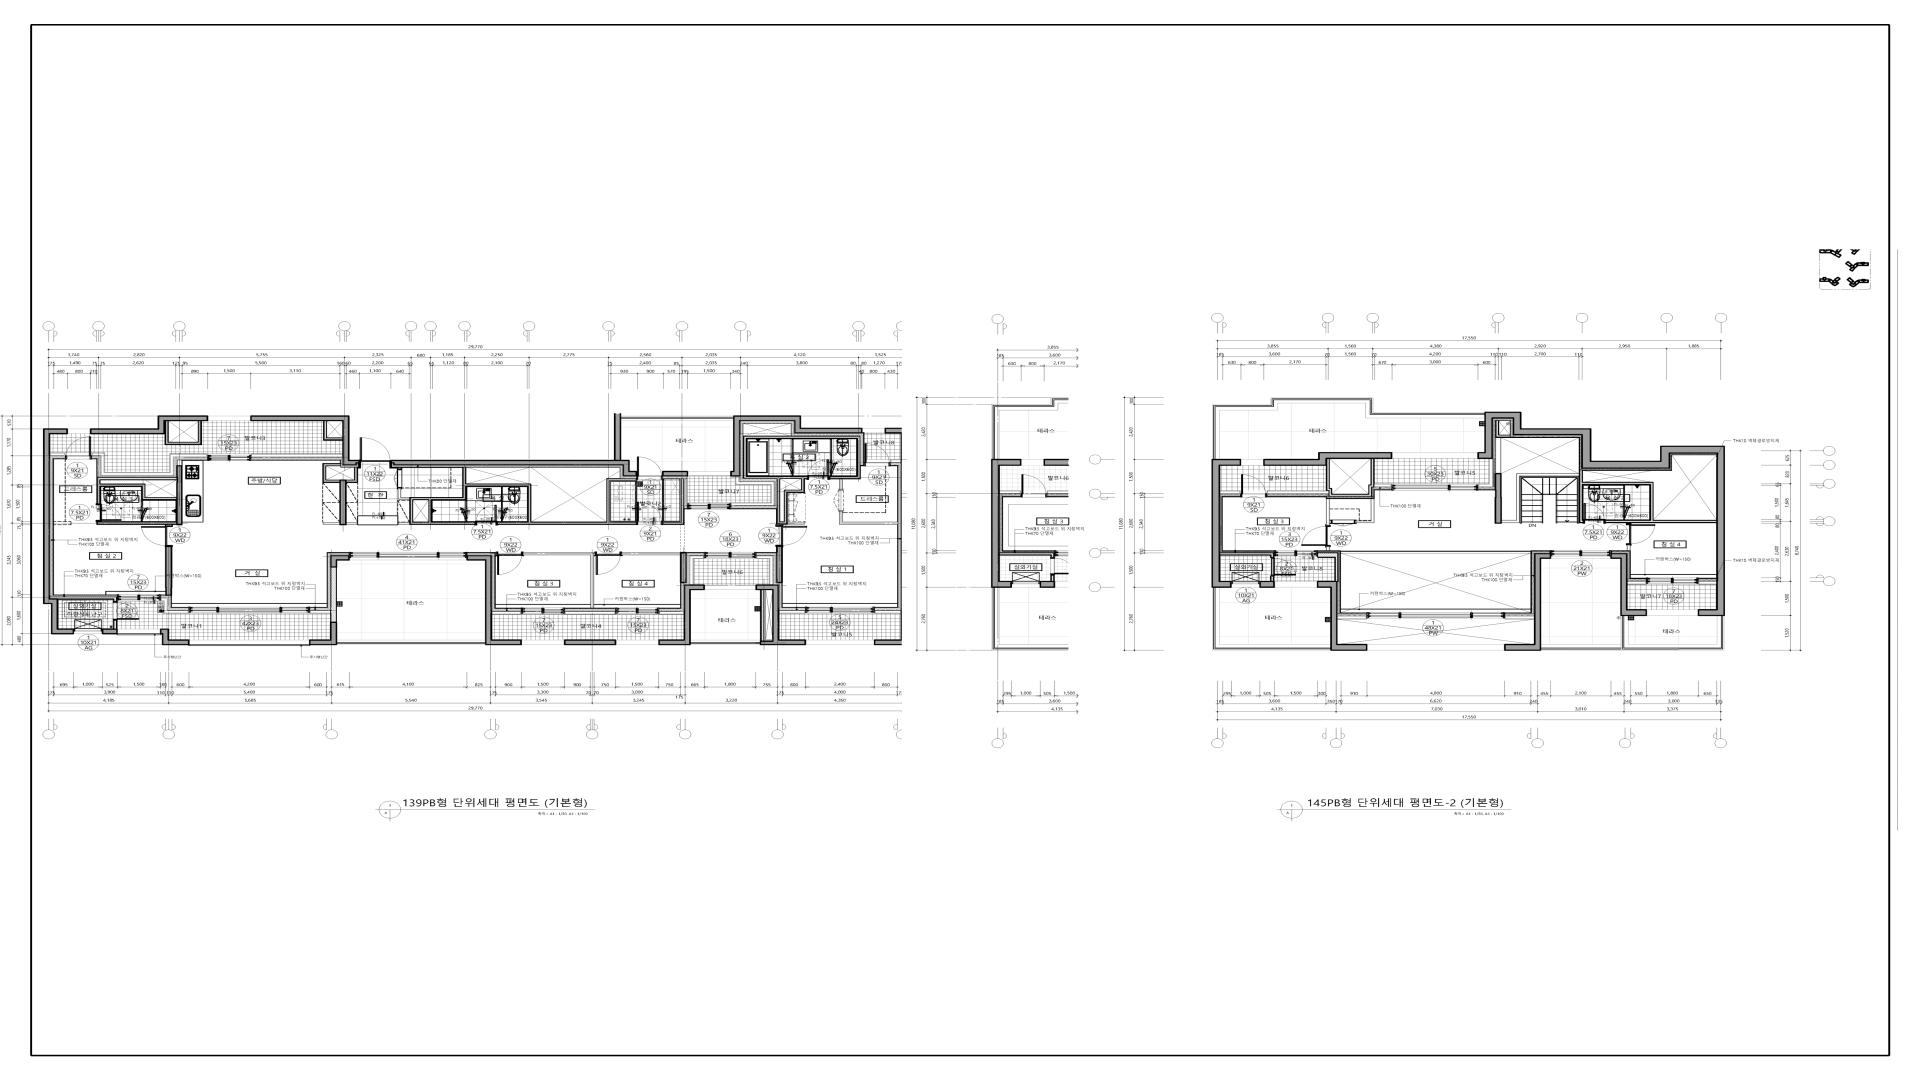door: (360, 438, 392, 468), (775, 525, 807, 547), (141, 525, 173, 547), (593, 551, 621, 575), (496, 551, 524, 575), (864, 443, 890, 467), (1302, 525, 1331, 546), (1626, 524, 1655, 545), (66, 436, 91, 460), (637, 456, 662, 480), (637, 501, 662, 525), (1241, 475, 1267, 497), (113, 601, 140, 620), (807, 459, 829, 480), (475, 505, 497, 526), (1271, 558, 1296, 576), (1584, 504, 1606, 524), (96, 504, 121, 521), (833, 489, 844, 512), (1331, 520, 1356, 526)
wall: (1477, 411, 1725, 616), (1212, 397, 1485, 459), (392, 414, 637, 476), (398, 467, 637, 525), (1502, 469, 1716, 524), (744, 435, 861, 525), (731, 415, 862, 476), (874, 427, 909, 645), (1212, 588, 1331, 650), (1542, 616, 1725, 650), (44, 429, 74, 634), (251, 415, 359, 465), (467, 555, 522, 645), (1267, 459, 1391, 497), (1505, 554, 1551, 651), (524, 553, 593, 608), (1212, 459, 1241, 588), (1317, 582, 1367, 651), (756, 584, 806, 645), (91, 452, 207, 476), (659, 584, 704, 645), (1610, 554, 1647, 616), (90, 415, 208, 434), (96, 477, 177, 504), (1263, 452, 1393, 465), (310, 567, 338, 622), (731, 477, 775, 506), (663, 479, 684, 525), (165, 421, 202, 446), (1495, 421, 1511, 473), (839, 512, 898, 525), (338, 640, 485, 645), (309, 622, 338, 645), (1317, 553, 1338, 582), (757, 555, 774, 584), (1356, 498, 1374, 524), (161, 629, 190, 645), (621, 417, 733, 421), (161, 597, 189, 613), (690, 555, 704, 584), (1478, 459, 1493, 487), (1494, 473, 1502, 524), (323, 421, 343, 440), (165, 547, 173, 596), (251, 454, 343, 458), (691, 640, 760, 645), (339, 480, 347, 525), (50, 596, 117, 601), (323, 463, 340, 483), (96, 521, 177, 525), (177, 465, 182, 525), (1220, 553, 1274, 558), (775, 547, 783, 583), (564, 640, 616, 645), (760, 591, 765, 641), (679, 551, 687, 583), (330, 555, 349, 567), (347, 467, 359, 483), (621, 553, 679, 555), (662, 471, 688, 476), (564, 612, 616, 615), (1337, 616, 1366, 620), (1505, 616, 1534, 620), (1259, 582, 1275, 588), (659, 611, 683, 615), (102, 629, 117, 634), (1220, 491, 1241, 495), (492, 612, 521, 615), (779, 611, 806, 613), (874, 611, 901, 613), (1327, 498, 1329, 525), (50, 452, 65, 456), (1627, 582, 1646, 584), (1698, 582, 1716, 584), (323, 522, 339, 525), (890, 459, 901, 463), (113, 620, 117, 629), (347, 522, 357, 525), (177, 460, 182, 465), (1270, 576, 1274, 582), (1627, 545, 1630, 550), (1327, 546, 1329, 550)
window: (349, 553, 467, 560), (1366, 612, 1505, 618), (189, 607, 310, 613), (190, 640, 309, 646), (1367, 645, 1505, 650), (1391, 484, 1478, 491), (1393, 452, 1477, 459), (1551, 550, 1610, 558), (806, 607, 874, 613), (806, 640, 874, 645), (1646, 578, 1698, 584), (704, 553, 757, 559), (207, 454, 251, 462), (117, 628, 161, 636), (522, 637, 564, 645), (1274, 550, 1317, 556), (117, 595, 161, 601), (687, 502, 731, 509), (521, 608, 564, 615), (616, 608, 659, 615), (1647, 611, 1697, 616), (616, 640, 659, 645), (1275, 582, 1317, 587), (705, 585, 756, 589), (208, 417, 251, 421), (688, 472, 731, 476), (1241, 459, 1263, 465), (1232, 582, 1259, 587), (74, 629, 102, 634), (67, 429, 90, 434), (862, 429, 885, 433)
